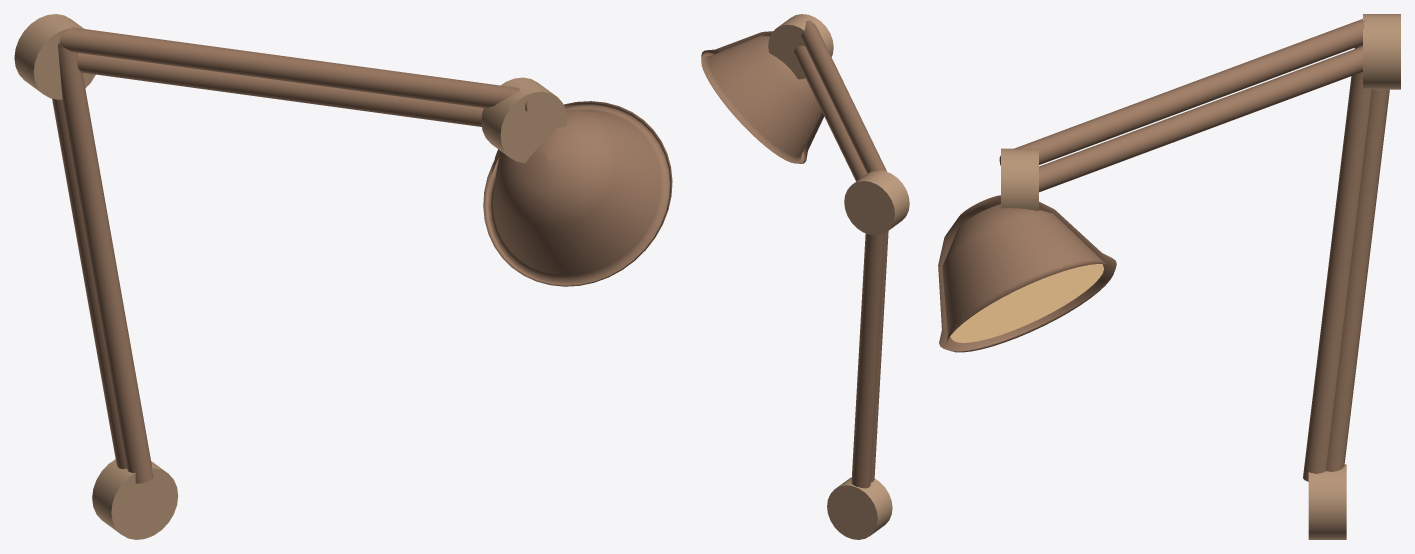
Rendered from lamp_arm.glb.
3 renders of one model, left to right at view 1: azimuth 30°, elevation 25°; view 2: azimuth 150°, elevation 25°; view 3: azimuth 270°, elevation 25°, orthographic. The views are drawn at different scales.
Parts seen in each view (by area): view 1: lamp_arm; view 2: lamp_arm; view 3: lamp_arm.
Part boxes in pixels (bbox=[...]): lamp_arm: bbox=[14, 14, 672, 539]; lamp_arm: bbox=[701, 14, 909, 539]; lamp_arm: bbox=[938, 14, 1400, 539].
Size of the model in its own units: 1.86 by 2.02 by 1.7.
